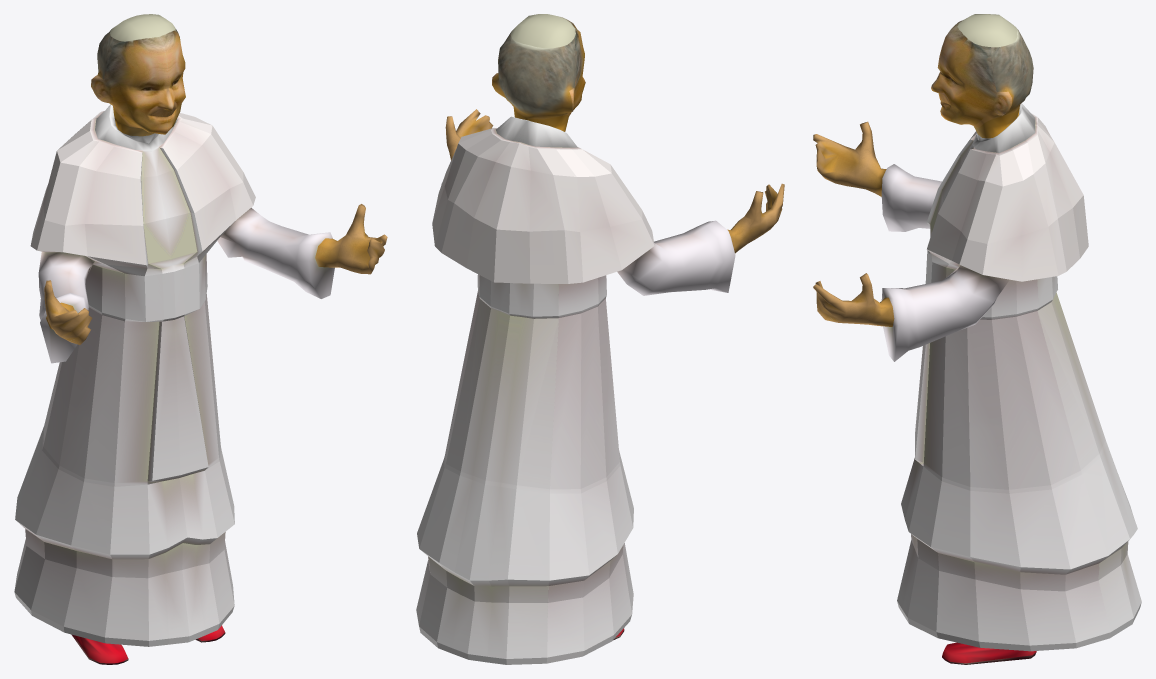
The model's file is lowpolypope_2.gltf.
3 views of the same model, side by side, from view 1: azimuth 30°, elevation 25°; view 2: azimuth 150°, elevation 25°; view 3: azimuth 270°, elevation 25° (orthographic).
Visible parts, largest first — view 1: pope; view 2: pope; view 3: pope.
Part boxes in pixels (box(x1,y1,x2,y2)): pope: box(14, 14, 387, 664); pope: box(416, 14, 784, 664); pope: box(813, 14, 1141, 664).
Size of the model in its own units: 5.32 by 9.58 by 4.65.
Materials: 1 (1 with a texture image).
